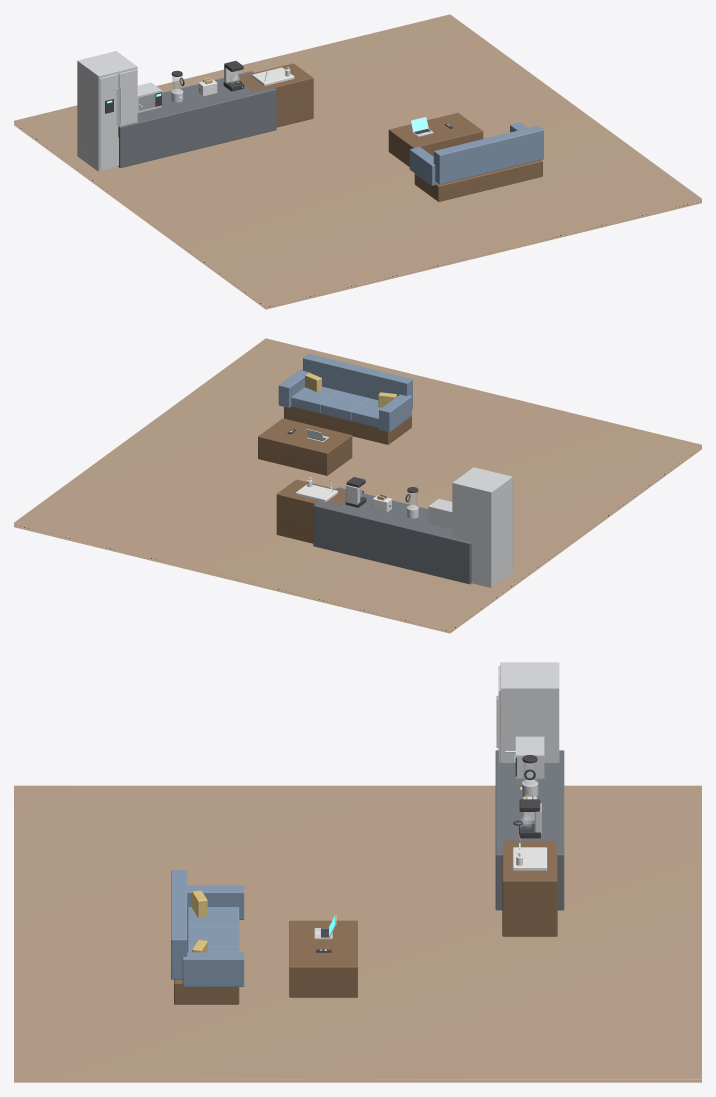
Rendered from house.glb.
The picture shows the model from 3 angles, top to bottom: view 1: azimuth 30°, elevation 25°; view 2: azimuth 150°, elevation 25°; view 3: azimuth 270°, elevation 25°; orthographic projection. The views are drawn at different scales.
Parts seen in each view (by area): view 1: Room_Floor, Kitchen_Counter, Sofa, Refrigerator, Living_Table, Bathroom_Vanity, Microwave, Coffee_Maker, Sink_Basin; view 2: Room_Floor, Sofa, Kitchen_Counter, Refrigerator, Living_Table, Bathroom_Vanity, Microwave, Coffee_Maker, Sink_Basin; view 3: Room_Floor, Sofa, Refrigerator, Kitchen_Counter, Living_Table, Bathroom_Vanity, Microwave, Coffee_Maker, Sink_Basin, Blender.
Part boxes in pixels (x1,y1,x2,y2): Room_Floor: (14,14,701,309); Kitchen_Counter: (118,71,276,168); Sofa: (409,122,543,201); Refrigerator: (77,51,137,171); Living_Table: (388,113,483,166); Bathroom_Vanity: (238,63,313,127); Microwave: (137,82,161,112); Coffee_Maker: (223,61,244,91); Sink_Basin: (252,67,294,85); Room_Floor: (14,338,701,633); Sofa: (278,354,412,444); Kitchen_Counter: (313,487,471,584); Refrigerator: (452,467,512,587); Living_Table: (258,418,352,475); Bathroom_Vanity: (276,479,345,543); Microwave: (428,498,452,529); Coffee_Maker: (345,477,366,507); Sink_Basin: (295,484,337,502); Room_Floor: (14,785,701,1082); Sofa: (171,870,244,1004); Refrigerator: (496,662,559,762); Kitchen_Counter: (495,750,564,910); Living_Table: (289,920,357,997); Bathroom_Vanity: (502,840,557,936); Microwave: (505,736,544,778); Coffee_Maker: (513,799,541,838); Sink_Basin: (512,847,547,870); Blender: (520,755,538,796).
Size of the model in its own units: 10 by 2.2 by 10.
